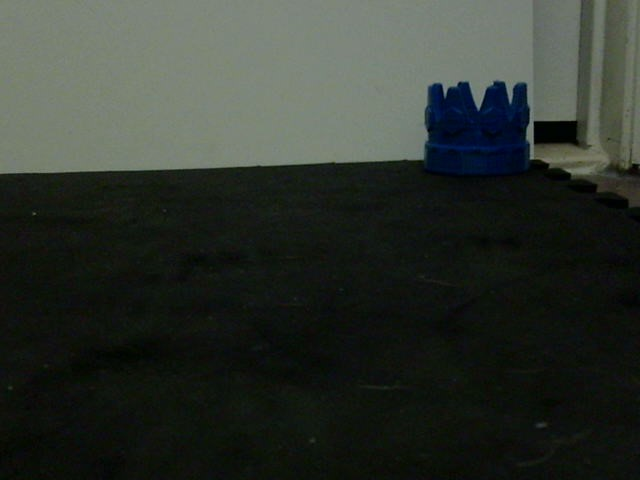crown: (422, 80, 533, 176)
